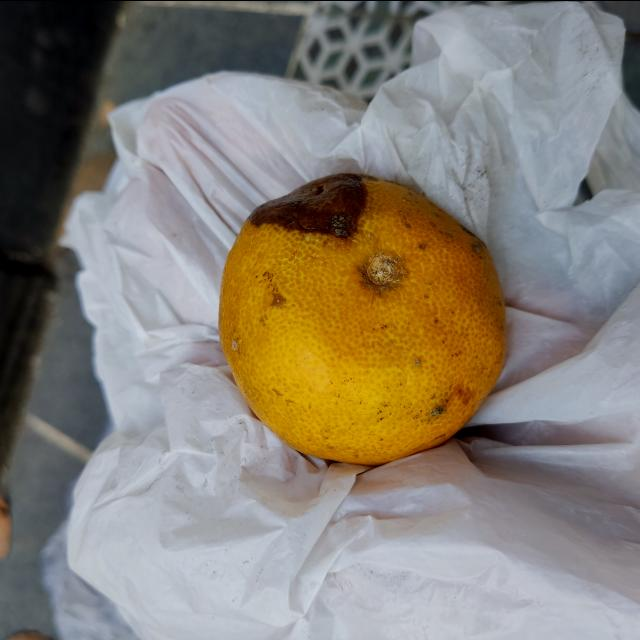orange: (220, 173, 508, 466)
